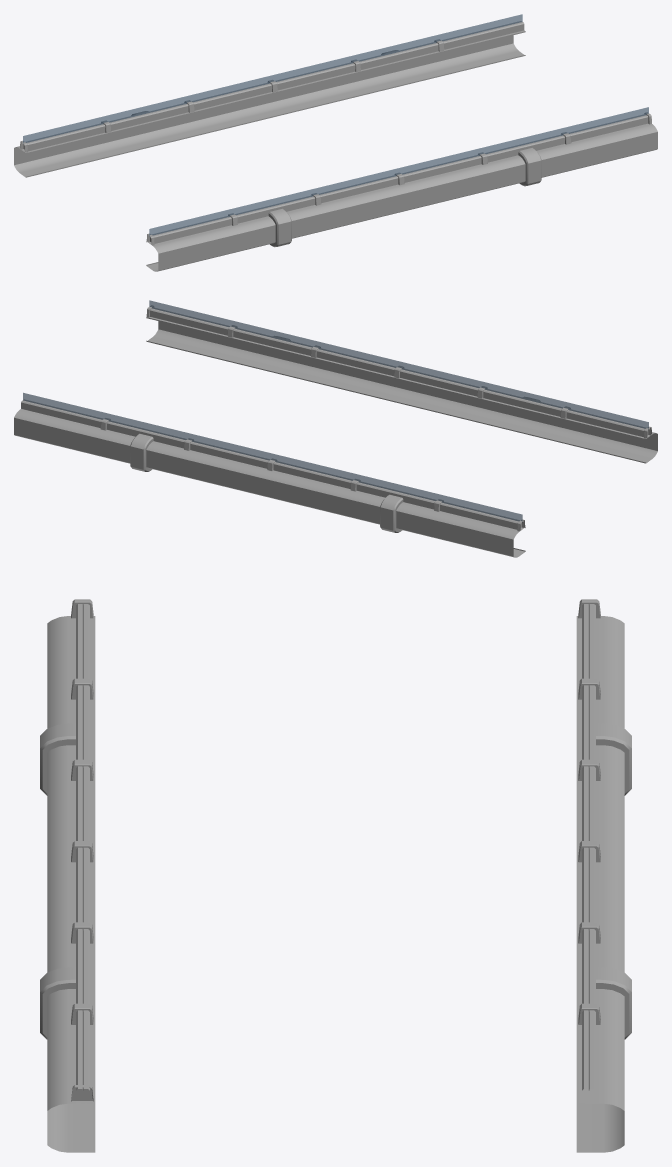
The model's file is Mur_Module.fbx.
3 views of the same model, one above another, from view 1: azimuth 30°, elevation 25°; view 2: azimuth 150°, elevation 25°; view 3: azimuth 270°, elevation 25° (orthographic). The views are drawn at different scales.
Parts seen in each view (by area): view 1: Mur; view 2: Mur; view 3: Mur.
Part boxes in pixels (x1,y1,x2,y2): Mur: [14, 14, 657, 271]; Mur: [14, 300, 657, 557]; Mur: [40, 599, 631, 1152].
Size of the model in its own units: 30 by 2.5 by 15.38.
